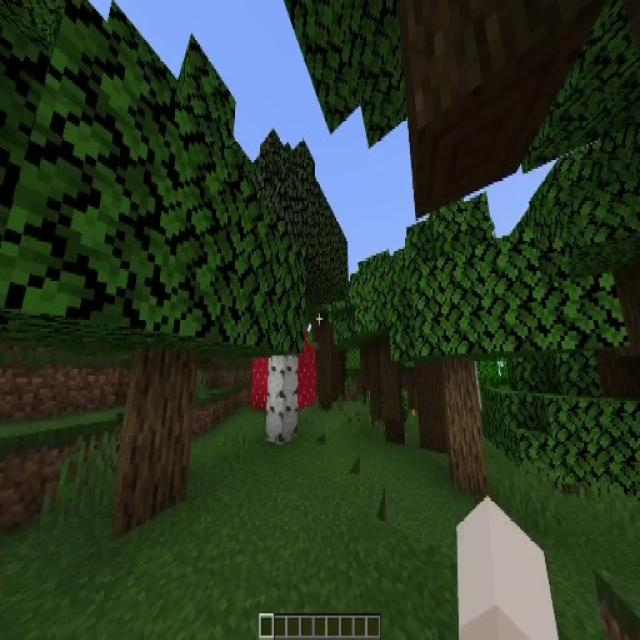birch: (218, 132, 348, 445)
birch_log: (269, 354, 298, 444)
dark_oak: (391, 220, 474, 456), (338, 260, 412, 441)
dark_oak_log: (369, 343, 402, 432), (416, 358, 446, 448), (319, 322, 341, 408)
oak: (3, 8, 298, 528), (387, 176, 566, 492)
oak_log: (120, 353, 192, 524), (444, 361, 486, 491)
